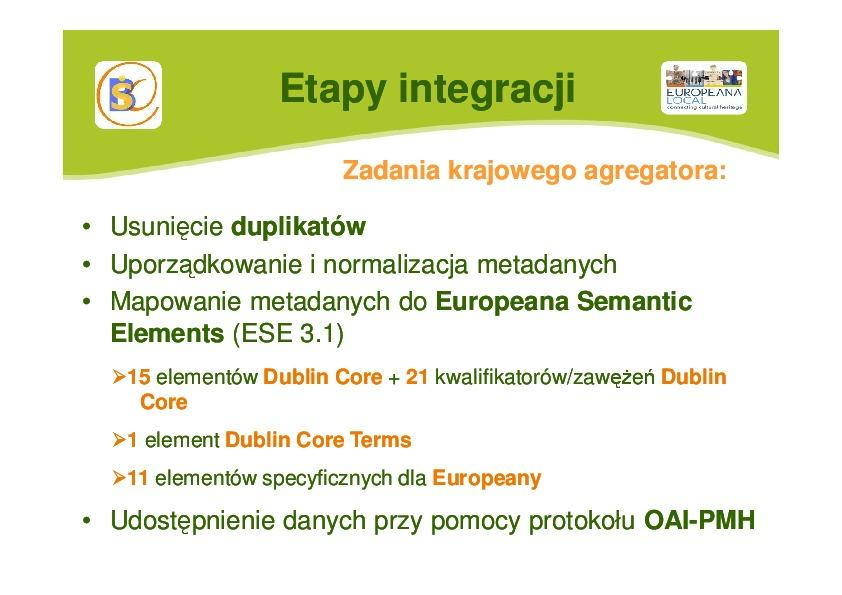paragraph: (68, 202, 803, 553)
title: (266, 56, 599, 126)
